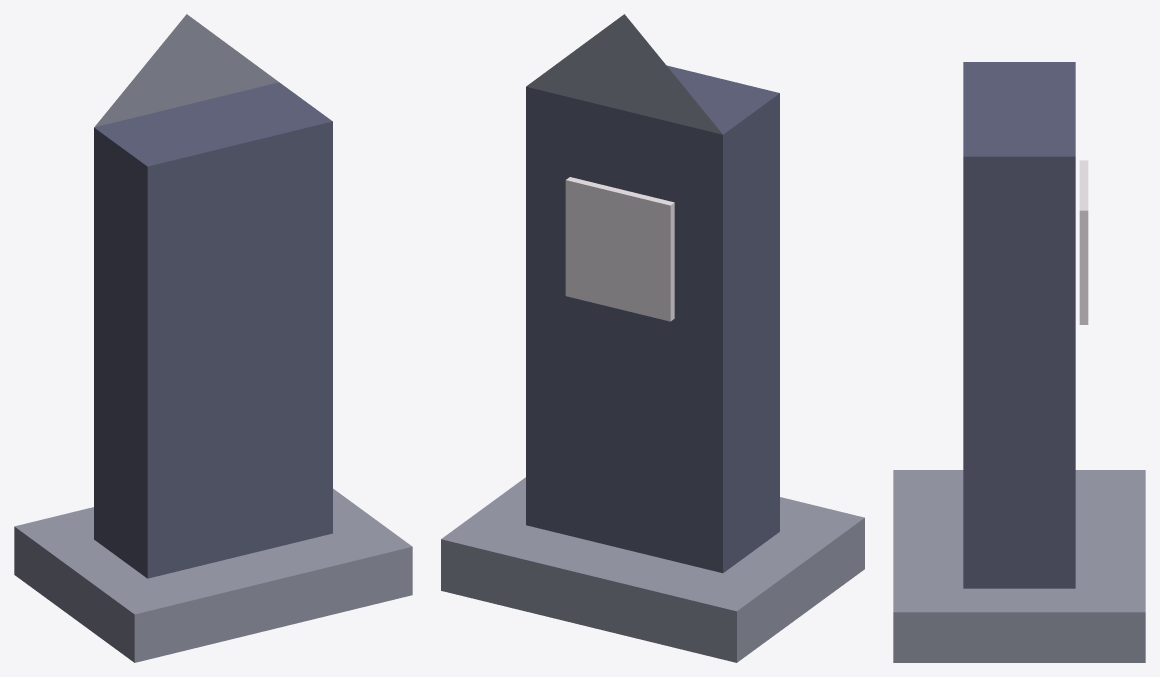
The model's file is moonfall_spirit_waystone_lod1.gltf.
3 renders of one model, left to right at view 1: azimuth 30°, elevation 25°; view 2: azimuth 150°, elevation 25°; view 3: azimuth 270°, elevation 25°, orthographic. The views are drawn at different scales.
Parts seen in each view (by area): view 1: moonfall_spirit_waystone_lod1; view 2: moonfall_spirit_waystone_lod1; view 3: moonfall_spirit_waystone_lod1.
Part boxes in pixels (box(x1,y1,x2,y2)): moonfall_spirit_waystone_lod1: box(14, 14, 412, 662); moonfall_spirit_waystone_lod1: box(441, 14, 864, 662); moonfall_spirit_waystone_lod1: box(893, 62, 1145, 662).
Size of the model in its own units: 2.4 by 4.55 by 1.8.
